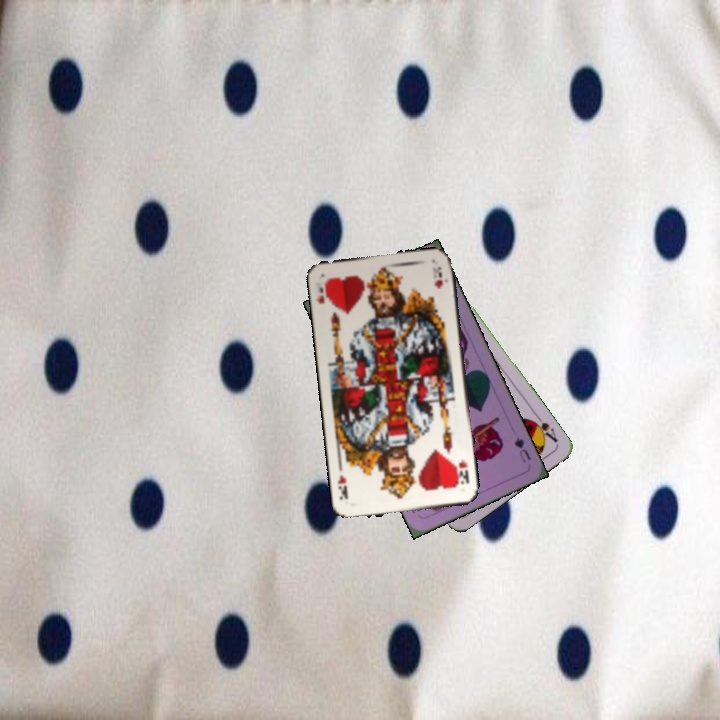GU: (510, 433, 534, 466)
HK: (452, 455, 472, 487), (313, 275, 333, 306)
SA: (526, 410, 561, 445)
